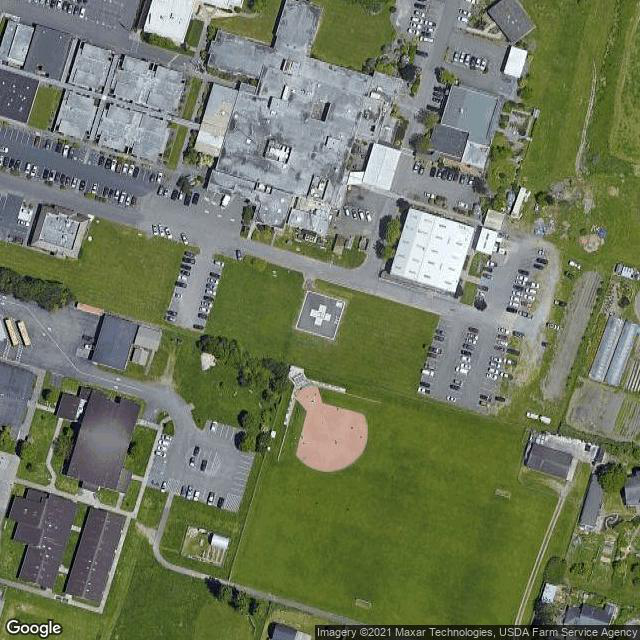Helipad: (307, 292, 335, 331)
